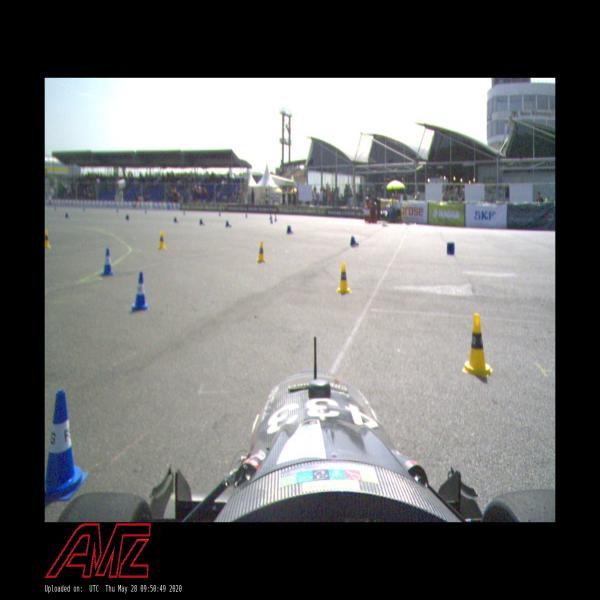blue_cone: (45, 384, 84, 503), (130, 272, 150, 313), (101, 246, 114, 276), (350, 236, 359, 248), (286, 225, 294, 234), (225, 220, 232, 228), (199, 218, 205, 226), (173, 215, 179, 222)
yellow_cone: (463, 313, 493, 376), (337, 262, 351, 294), (256, 240, 266, 264), (157, 230, 166, 252), (45, 227, 51, 250)
